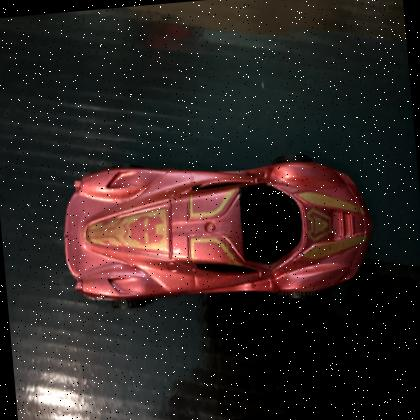Car: (55, 140, 381, 322)
